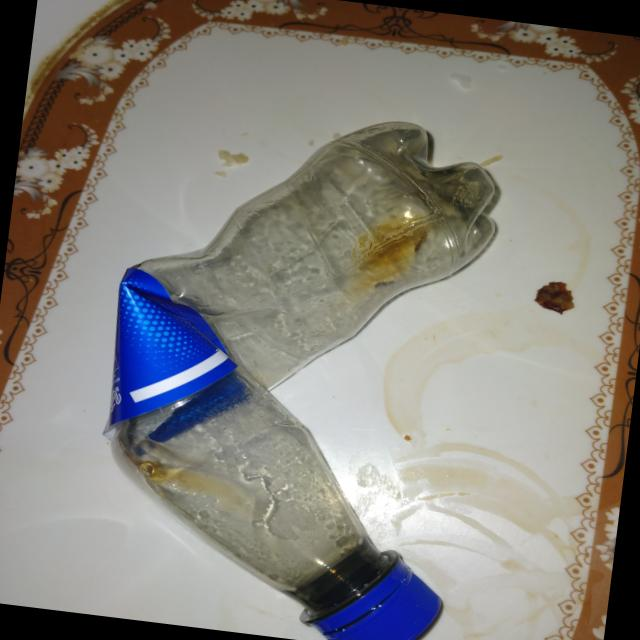general: (77, 87, 511, 640)
